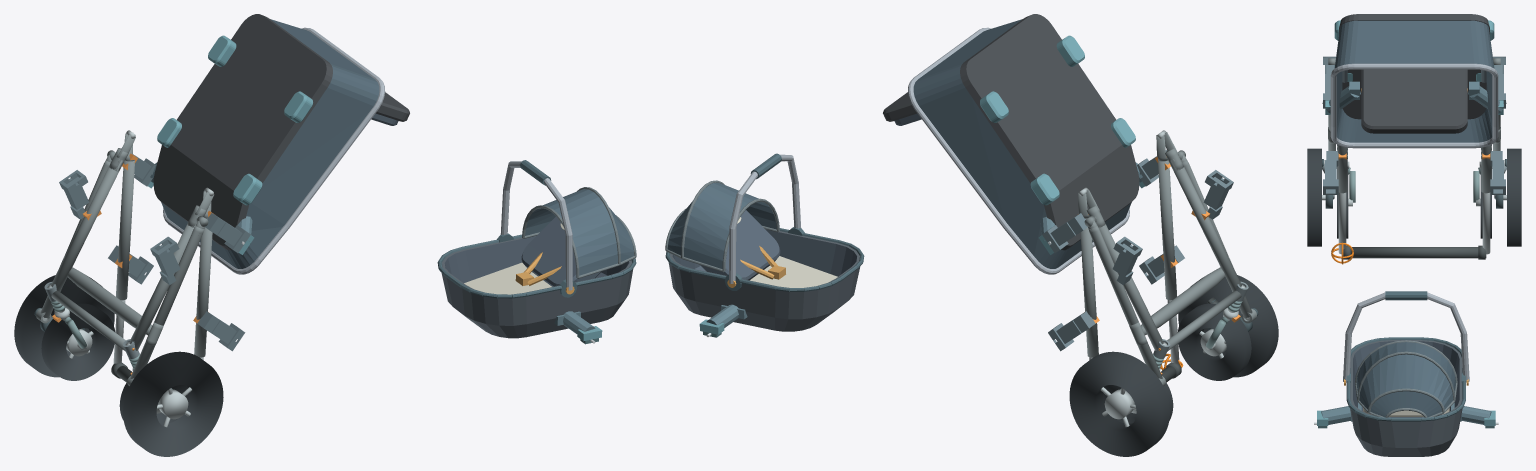
File: D22_w550_state3_wheel_M.glb
3 renders of one model, left to right at view 1: azimuth 30°, elevation 25°; view 2: azimuth 150°, elevation 25°; view 3: azimuth 270°, elevation 25°, orthographic. The views are drawn at different scales.
Visible parts, largest first — view 1: D22_Lower, D22_Upper, RL_tire.004, FR_tire.004, RR_tire.004, main_upper_1.005, main_lower_1.005, V46_rear_leg_-1.005, main_upper_-1.005, V46_rearbar.005, main_lower_-1.005, Universal_Cabin_Receiver_H_-1 (+6 smaller); view 2: D22_Lower, D22_Upper, RR_tire.004, FL_tire.004, RL_tire.004, main_upper_-1.005, main_lower_-1.005, V46_rear_leg_1.005, main_upper_1.005, V46_rearbar.005, main_lower_1.005, Universal_Cabin_Receiver_H_1 (+7 smaller); view 3: D22_Lower, D22_Upper, round_handle.004, RL_tire.004, RR_tire.004, D22_Upper_Mount_H, D22_Lower_Mount_M, Universal_Cabin_Receiver_H_1, Universal_Cabin_Receiver_H_-1, handle_slider_1.004, handle_slider_-1.004, main_upper_1.005 (+6 smaller).
Boxes of the visible parts, x1,y1,x2,y2 form: D22_Lower: (153,14,409,274); D22_Upper: (437,160,636,338); RL_tire.004: (123,351,223,456); FR_tire.004: (41,303,114,380); RR_tire.004: (14,275,114,377); main_upper_1.005: (116,160,134,300); main_lower_1.005: (51,160,122,291); V46_rear_leg_-1.005: (130,226,204,378); main_upper_-1.005: (194,218,212,357); V46_rearbar.005: (67,267,152,335); main_lower_-1.005: (129,223,196,350); Universal_Cabin_Receiver_H_-1: (197,311,245,351); D22_Lower: (883,14,1139,274); D22_Upper: (665,153,864,331); RR_tire.004: (1069,351,1169,456); FL_tire.004: (1178,303,1251,380); RL_tire.004: (1178,275,1278,377); main_upper_-1.005: (1158,160,1177,300); main_lower_-1.005: (1170,160,1241,291); V46_rear_leg_1.005: (1088,226,1162,378); main_upper_1.005: (1080,218,1098,357); V46_rearbar.005: (1140,267,1225,335); main_lower_1.005: (1096,223,1163,350); Universal_Cabin_Receiver_H_1: (1048,311,1095,351); D22_Lower: (1330,14,1498,148); D22_Upper: (1343,291,1469,456); round_handle.004: (1350,247,1486,258); RL_tire.004: (1307,148,1321,246); RR_tire.004: (1507,148,1521,246); D22_Upper_Mount_H: (1314,402,1498,428); D22_Lower_Mount_M: (1322,81,1506,114); Universal_Cabin_Receiver_H_1: (1490,151,1505,194); Universal_Cabin_Receiver_H_-1: (1323,151,1338,194); handle_slider_1.004: (1482,192,1490,254); handle_slider_-1.004: (1338,192,1346,254); main_upper_1.005: (1481,145,1491,193).
Bounding box in the file's own units: 1.77 × 1.04 × 0.656.
